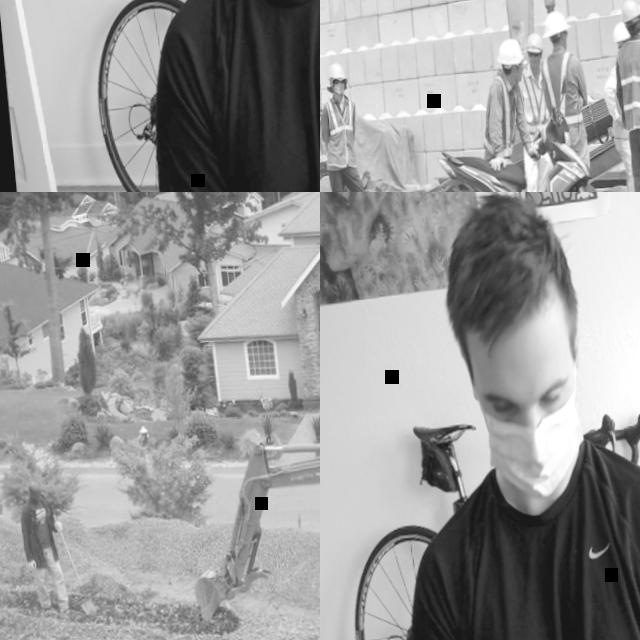Hardhat: (541, 9, 569, 38), (495, 38, 524, 65), (523, 32, 544, 54), (620, 0, 640, 20), (612, 23, 630, 44), (326, 62, 345, 80)
Mask: (478, 382, 590, 502), (332, 84, 345, 96)
NO-Hardhat: (435, 192, 571, 328), (28, 481, 39, 492)
NO-Mask: (510, 70, 523, 83), (527, 57, 538, 69), (560, 40, 569, 49), (32, 496, 41, 503)
NO-Safety Vest: (436, 452, 640, 640), (178, 0, 320, 192)
Person: (363, 192, 640, 640), (115, 0, 320, 192), (533, 6, 602, 192), (469, 37, 544, 192), (320, 57, 383, 192), (512, 29, 561, 192), (595, 22, 640, 192), (16, 479, 69, 616), (607, 0, 640, 192)
Safety Vest: (474, 69, 523, 161), (540, 49, 585, 129), (320, 97, 358, 166), (517, 62, 551, 135), (614, 36, 640, 130), (27, 501, 52, 550), (607, 92, 629, 142)
vehicle: (320, 0, 576, 192), (177, 416, 320, 640)
